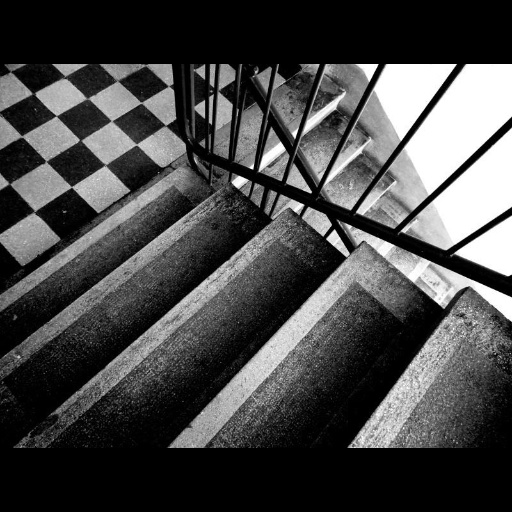Stairs: (0, 167, 512, 447)
